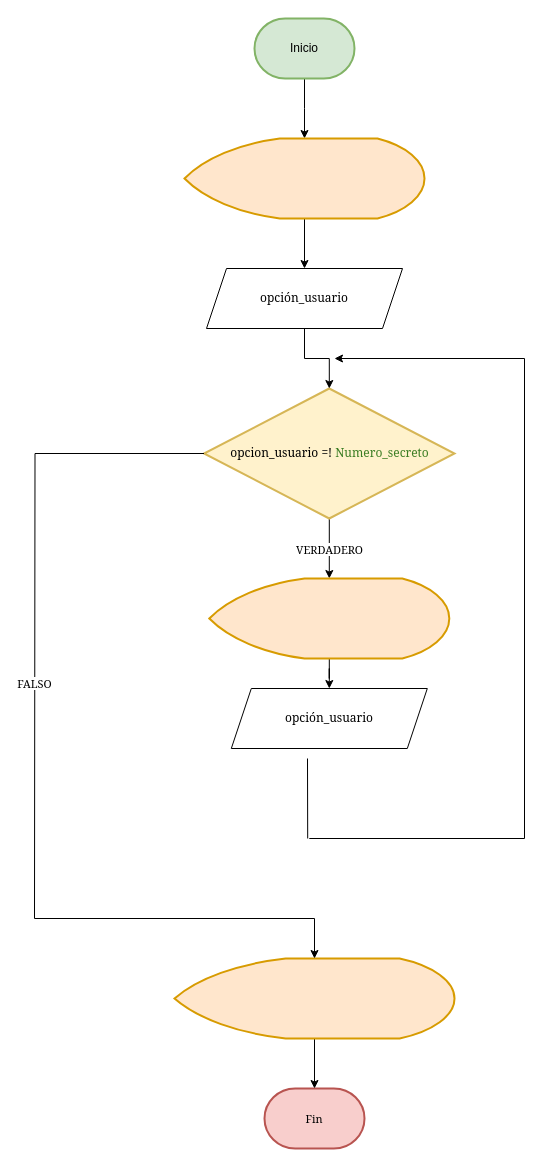
This 550x1166 diagram has some shape labels left out. The centre of each missing label's shape, as x and y in pixels:
Mostrar “Ha adivinado el número secreto: ” opción_usuario: (x=314, y=998)
“Debe adivinar el número secreto”: (x=304, y=178)
“No ha adivinado el número secreto, intente de nuevo: ”: (x=329, y=618)
